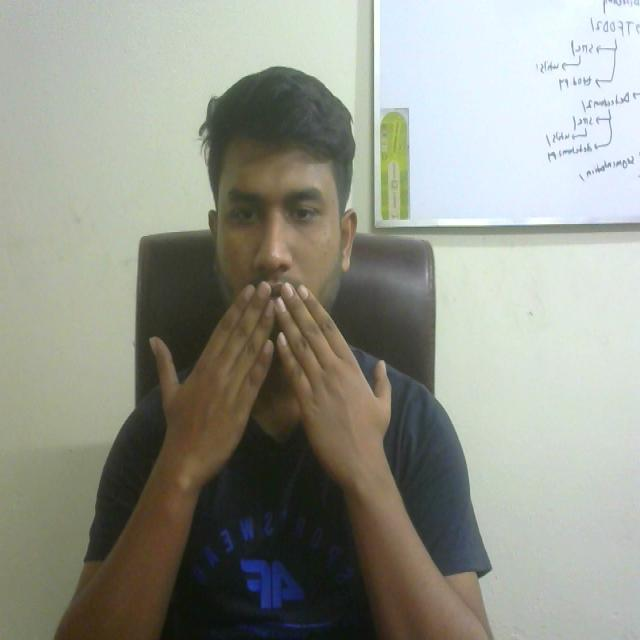Hello: (134, 272, 404, 496)
